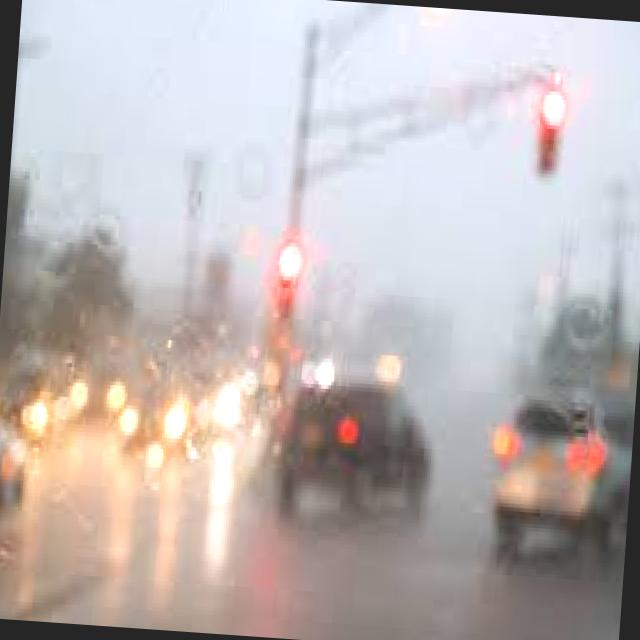Vehicle: (459, 361, 637, 594), (240, 342, 441, 536)
